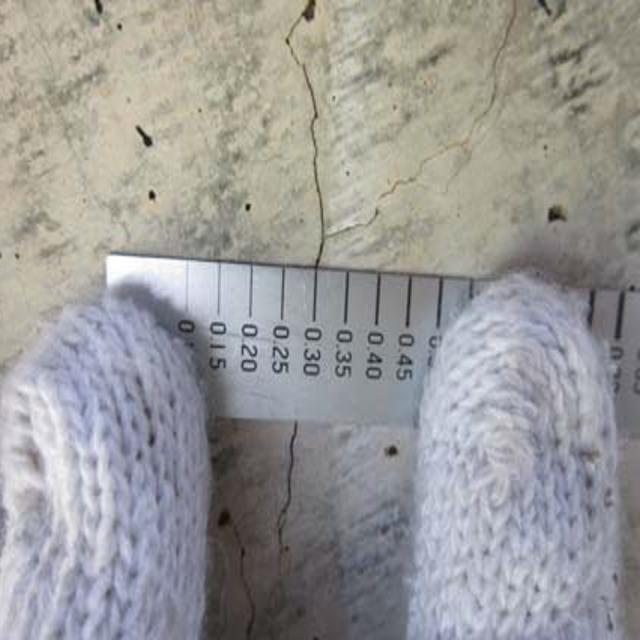crack: (283, 5, 520, 252), (262, 414, 314, 572)
